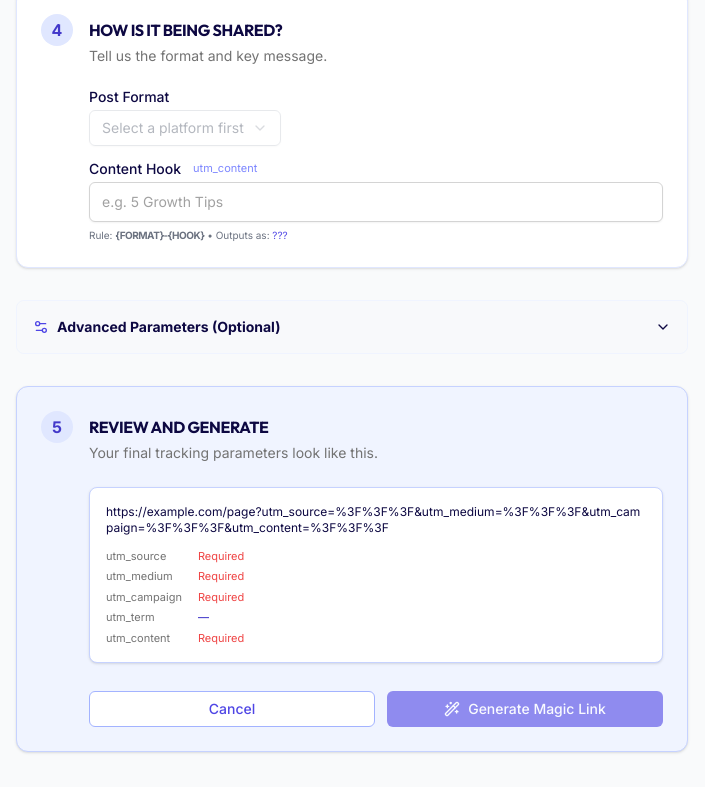
UtmGeneratorForm › shows validation errors on empty submit
(page scrolled)
Click the button "Generate Magic Link".
click(525, 709)  # box [387,691,663,727]
(page scrolled)
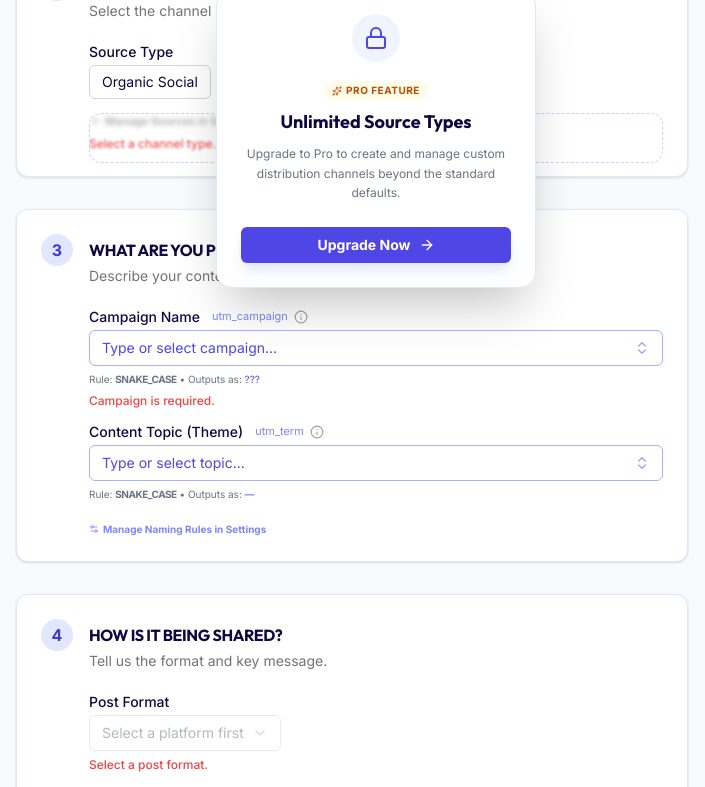
Expected: the text "Select a channel type." is shown, [89,136,216,150]
Expected: the text "Campaign is required." is shown, [89,392,215,408]
